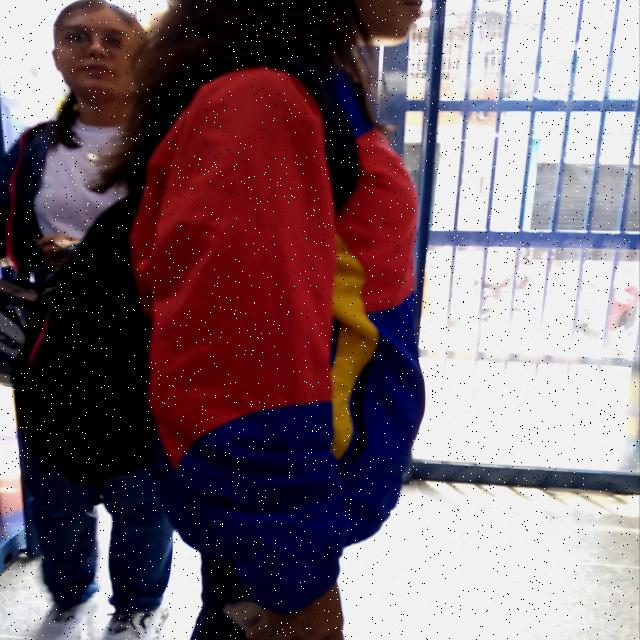chaqueta_unefa: (131, 46, 427, 614)
